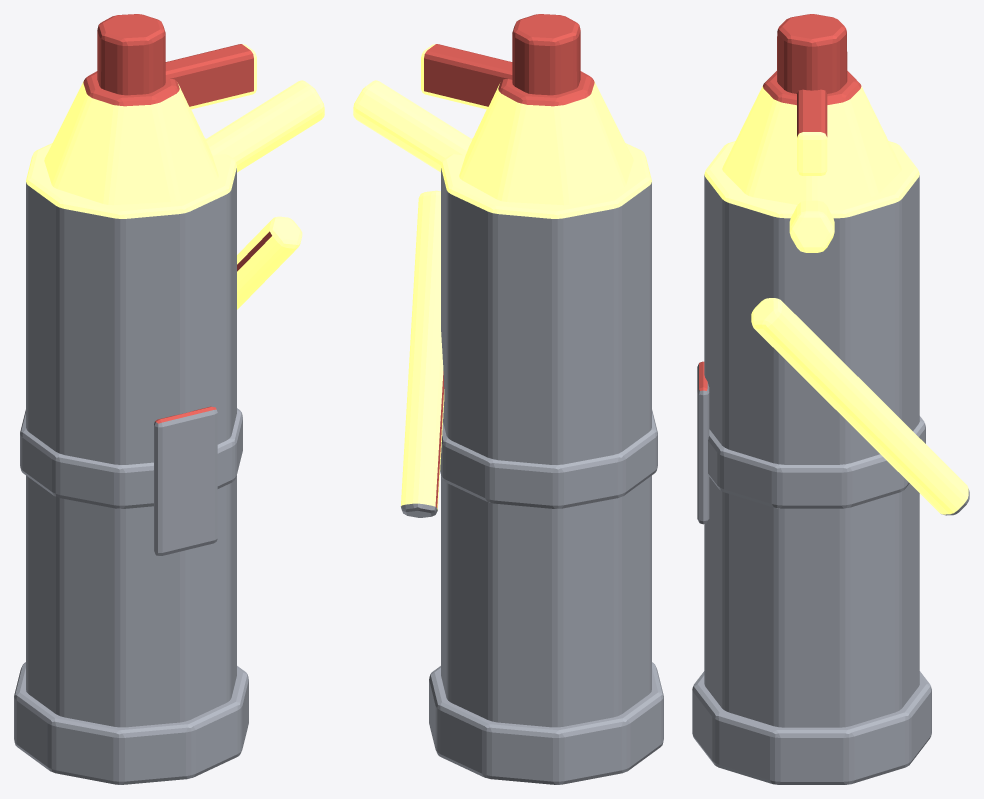
The model's file is Hangar_FireExtinguisher.fbx.
3 views of the same model, side by side, from view 1: azimuth 30°, elevation 25°; view 2: azimuth 150°, elevation 25°; view 3: azimuth 270°, elevation 25° (orthographic).
Parts seen in each view (by area): view 1: Hangar_FireExtinguisher_Buffer; view 2: Hangar_FireExtinguisher_Buffer; view 3: Hangar_FireExtinguisher_Buffer.
Part boxes in pixels (x1,y1,x2,y2): Hangar_FireExtinguisher_Buffer: (14, 14, 324, 784); Hangar_FireExtinguisher_Buffer: (353, 14, 663, 784); Hangar_FireExtinguisher_Buffer: (692, 14, 969, 784).
Bounding box in the file's own units: 0.5502 × 1.3 × 0.4589.
